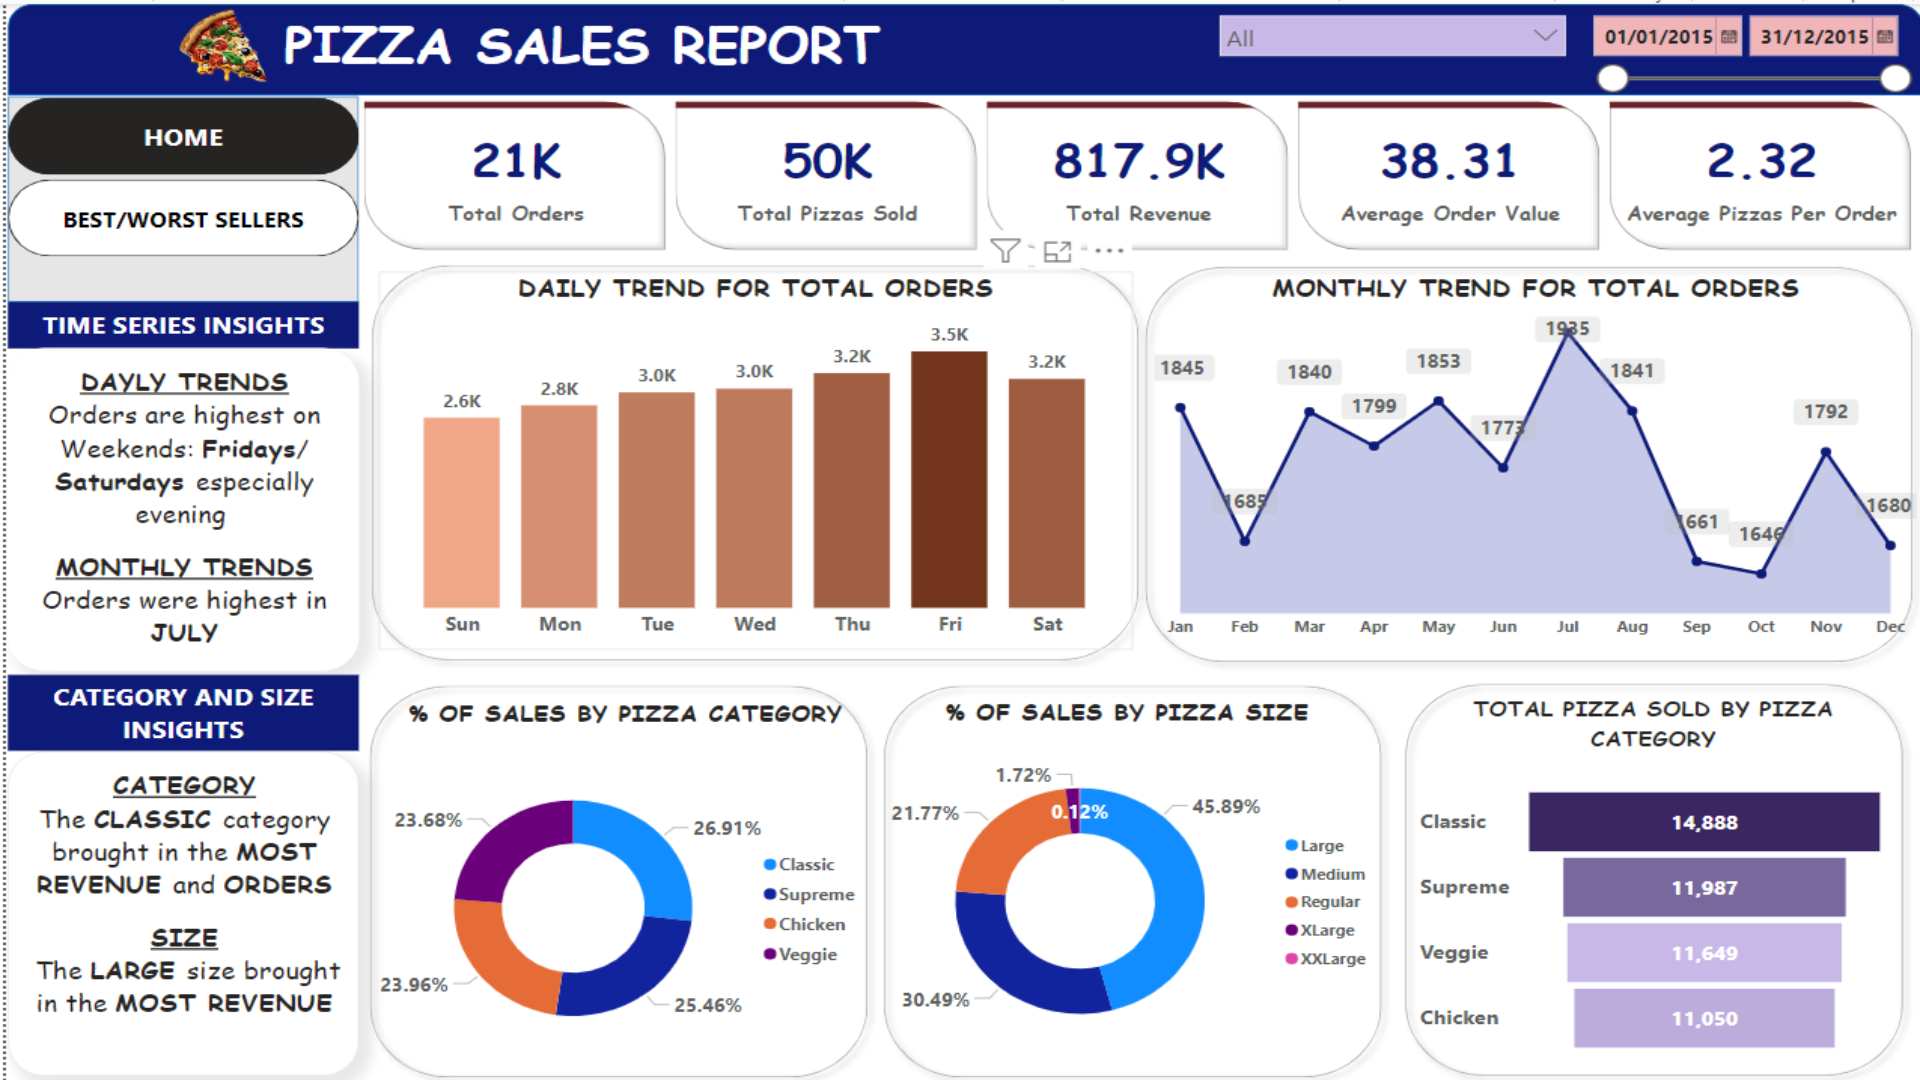

Layout of this report page (visuals, bound fields, positions):
{"tool":"powerbi","page":{"name":"HOME","canvas":[1550,970],"ordinal":0},"visuals":[{"type":"shape","box":[1.7,0,1550,81.7],"z":0},{"type":"cardVisual","fields":{"Data":["pizza_sales$.Total Orders","pizza_sales$.Total Pizzas Sold","pizza_sales$.Total Revenue","pizza_sales$.Average Order Sales Value","pizza_sales$.Average Pizzas Per Order"]},"box":[285.2,81.8,1266.6,143.2],"z":1000},{"type":"textbox","box":[143.2,0,645.9,70.1],"z":2000},{"type":"shape","box":[285.6,224.2,640,373.1],"z":3000},{"type":"columnChart","title":"DAILY TREND FOR TOTAL ORDERS","fields":{"Category":["pizza_sales$.Column"],"Y":["pizza_sales$.Total Orders"]},"box":[302.1,239.4,609.8,337.3],"z":4000},{"type":"shape","box":[911.8,225.9,640.2,373.1],"z":5000},{"type":"lineChart","title":"MONTHLY TREND FOR TOTAL ORDERS","fields":{"Category":["pizza_sales$.Month Abbrv"],"Y":["pizza_sales$.Total Orders"]},"box":[925.2,239.4,626.4,337.3],"z":6000},{"type":"shape","box":[285.2,599.4,422.2,370],"z":7000},{"type":"shape","box":[699.9,599.4,422.2,370],"z":8000},{"type":"shape","box":[1122.1,597.9,422.2,370],"z":9000},{"type":"donutChart","title":"% OF SALES BY PIZZA CATEGORY","fields":{"Y":["pizza_sales$.Total Revenue"],"Category":["pizza_sales$.pizza_category"]},"box":[301.6,620,399.1,350.3],"z":10000},{"type":"donutChart","title":"% OF SALES BY PIZZA SIZE","fields":{"Y":["pizza_sales$.Total Revenue"],"Category":["pizza_sales$.pizza_size"]},"box":[699.2,618.2,415.4,340.6],"z":11000},{"type":"funnel","title":"TOTAL PIZZA SOLD BY PIZZA CATEGORY","fields":{"Category":["pizza_sales$.pizza_category"],"Y":["pizza_sales$.Total Pizzas Sold"]},"box":[1139.6,616.6,387.2,352.3],"z":12000},{"type":"shape","box":[1.3,81.5,284.1,184.4],"z":13000},{"type":"textbox","box":[1.3,265.9,284.1,41.5],"z":14000},{"type":"textbox","box":[1.3,307.5,284.1,289.1],"z":15000},{"type":"textbox","box":[1.3,668.1,284.1,290.8],"z":16000},{"type":"textbox","box":[1.3,599.9,284.1,68.1],"z":17000},{"type":"pageNavigator","box":[1.3,156.3,284.1,69.8],"z":18000},{"type":"pageNavigator","box":[1.3,83.2,284.1,69.8],"z":19000},{"type":"slicer","fields":{"Values":["pizza_sales$.pizza_category"]},"box":[971.7,0,300,51.7],"z":20000},{"type":"slicer","fields":{"Values":["pizza_sales$.order_date"]},"box":[1271.7,0,278.3,88.3],"z":21000},{"type":"image","box":[132.5,0,86.8,74.6],"z":22000}]}

Visuals, with their boxes on the page's 1550x970 design canvas (x1, y1, x2, y2). These are canvas units, not pixel positions in the 1920x1080 screenshot, which may show the page scaled, cropped or inside an application window:
shape: 2,0,1552,82
cardVisual - pizza_sales$.Total Orders x pizza_sales$.Total Pizzas Sold: 285,82,1552,225
textbox: 143,0,789,70
shape: 286,224,926,597
"DAILY TREND FOR TOTAL ORDERS" columnChart: 302,239,912,577
shape: 912,226,1552,599
"MONTHLY TREND FOR TOTAL ORDERS" lineChart: 925,239,1552,577
shape: 285,599,707,969
shape: 700,599,1122,969
shape: 1122,598,1544,968
"% OF SALES BY PIZZA CATEGORY" donutChart: 302,620,701,970
"% OF SALES BY PIZZA SIZE" donutChart: 699,618,1115,959
"TOTAL PIZZA SOLD BY PIZZA CATEGORY" funnel: 1140,617,1527,969
shape: 1,82,285,266
textbox: 1,266,285,307
textbox: 1,308,285,597
textbox: 1,668,285,959
textbox: 1,600,285,668
pageNavigator: 1,156,285,226
pageNavigator: 1,83,285,153
slicer - pizza_sales$.pizza_category: 972,0,1272,52
slicer - pizza_sales$.order_date: 1272,0,1550,88
image: 132,0,219,75
